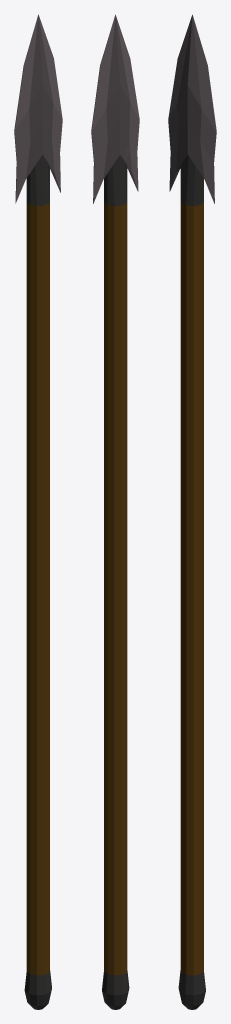
Rendered from Spear.fbx.
3 renders of one model, left to right at view 1: azimuth 30°, elevation 25°; view 2: azimuth 210°, elevation 25°; view 3: azimuth 330°, elevation 25°, orthographic.
Visible parts, largest first — view 1: Spear; view 2: Spear; view 3: Spear.
Part boxes in pixels (x1,y1,x2,y2): Spear: (14,14,62,1009); Spear: (91,14,139,1009); Spear: (168,14,216,1009).
Bounding box in the file's own units: 9.02 × 178 × 4.57.
Materials: 2 (2 with a texture image).
